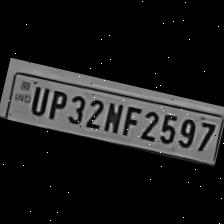2: (81, 92, 107, 130), (136, 105, 161, 142)
3: (63, 88, 88, 125)
5: (154, 108, 180, 146)
7: (192, 116, 218, 154)
9: (174, 111, 200, 150)
F: (118, 100, 142, 138)
N: (100, 96, 126, 134)
P: (42, 84, 69, 122)
U: (24, 81, 50, 117)
